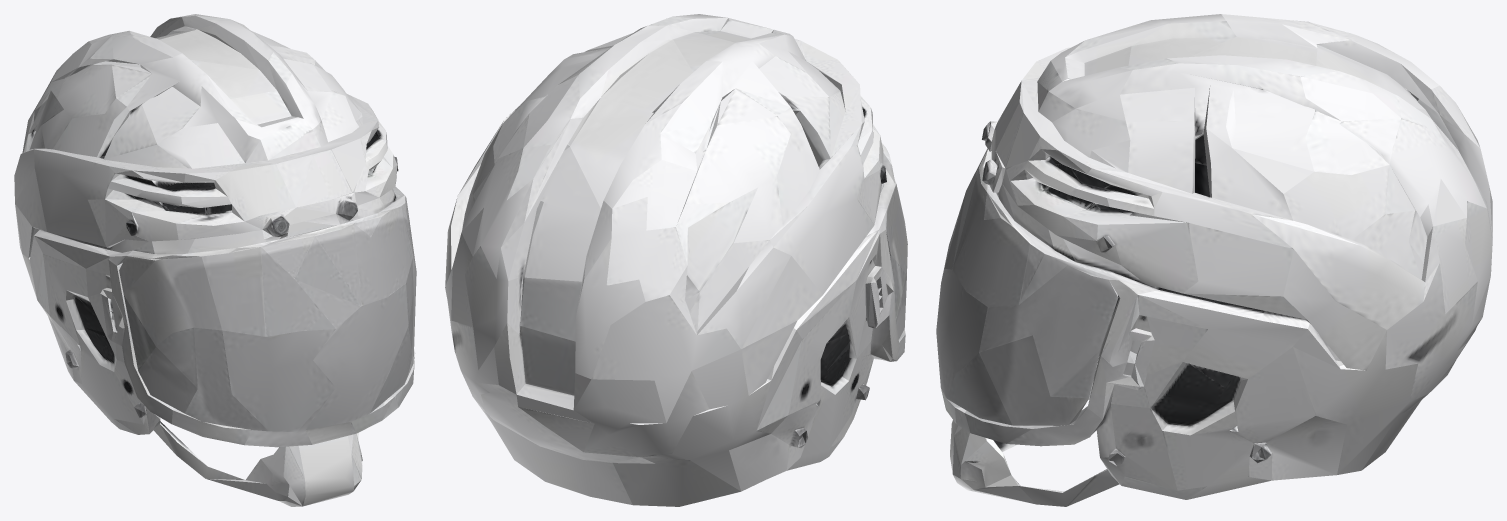
File: hockey_helmet.glb
The picture shows the model from 3 angles, left to right: view 1: azimuth 30°, elevation 25°; view 2: azimuth 150°, elevation 25°; view 3: azimuth 270°, elevation 25°; orthographic projection. The views are drawn at different scales.
Size of the model in its own units: 1.36 by 1.65 by 1.9.
Materials: 1 (1 with a texture image).
